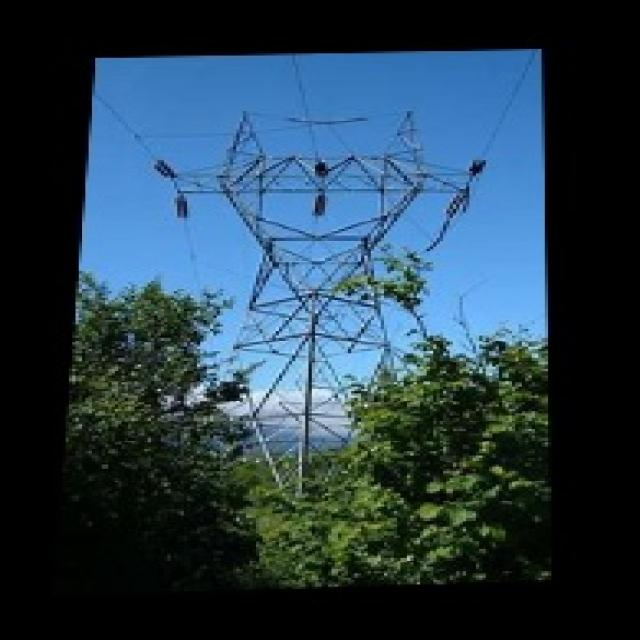utility poles: (332, 250, 501, 429), (145, 273, 277, 441)
